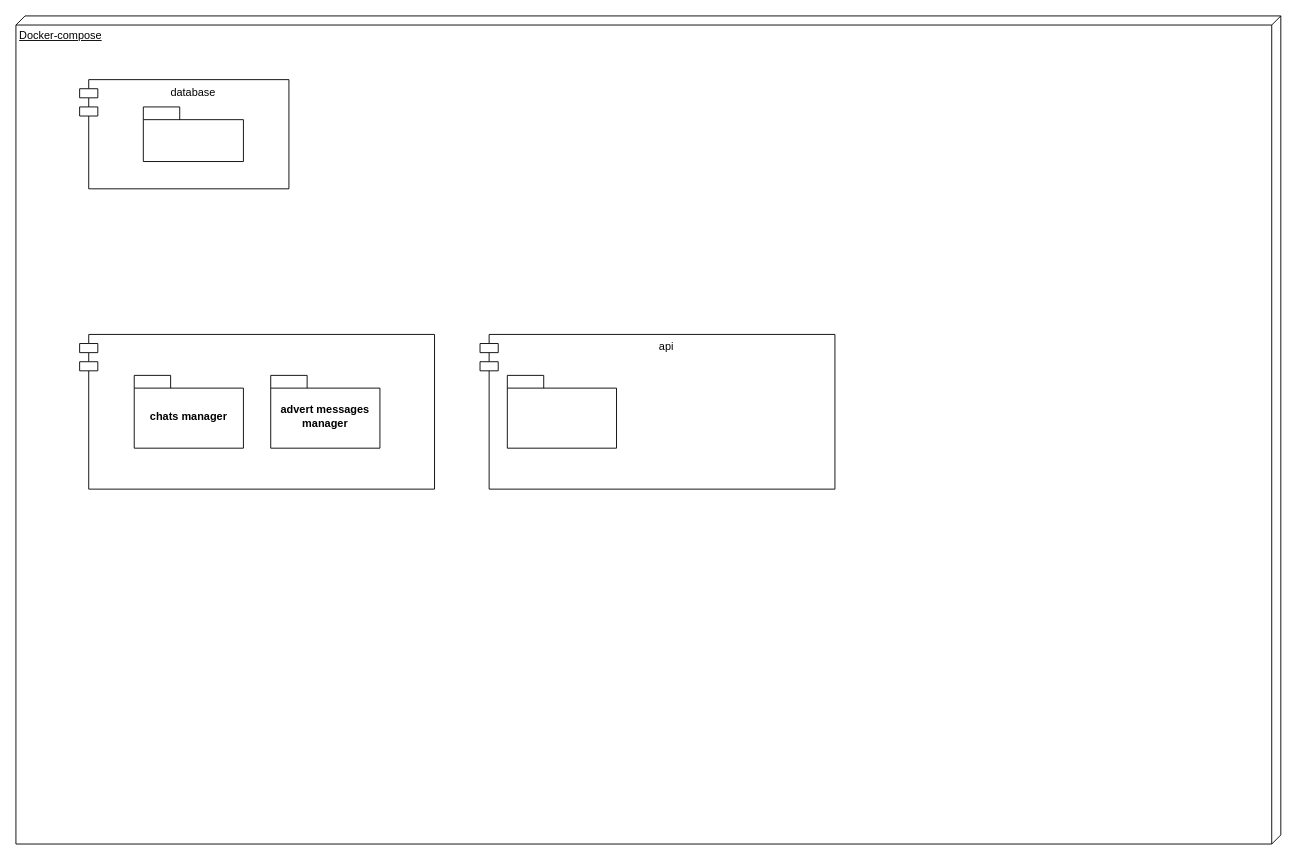
This 1297x860 diagram has some shape labels left out. Each missing label, with the box of its shape:
docker postgresql image: (142, 106, 243, 162)
messaging-client-api: (506, 374, 617, 448)
telegam-messaging-client: (79, 334, 435, 489)
